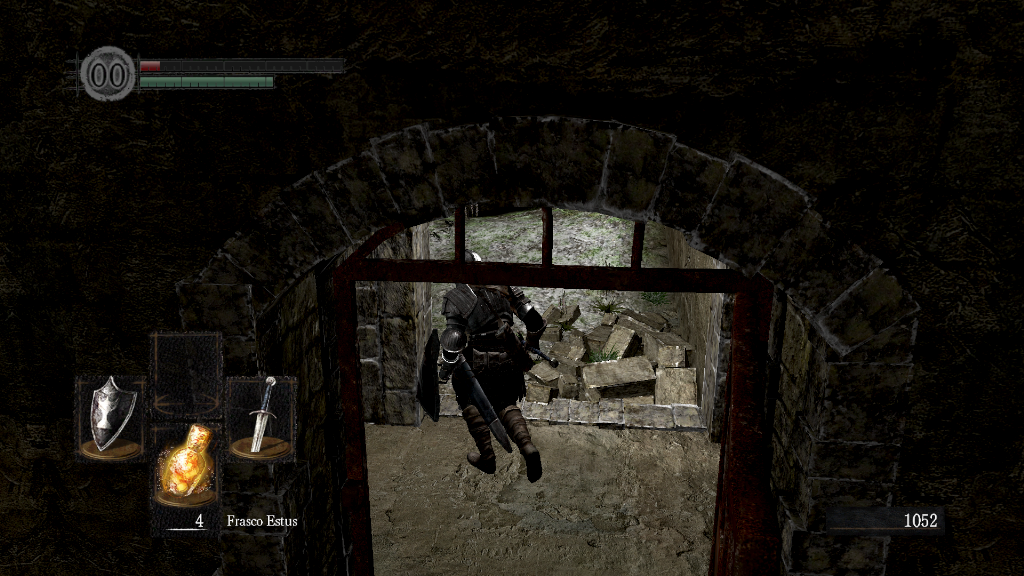health: (138, 58, 343, 71)
humanity: (80, 45, 136, 102)
player: (414, 248, 560, 486)
souls: (825, 506, 945, 536)
stamina: (138, 74, 274, 88)
